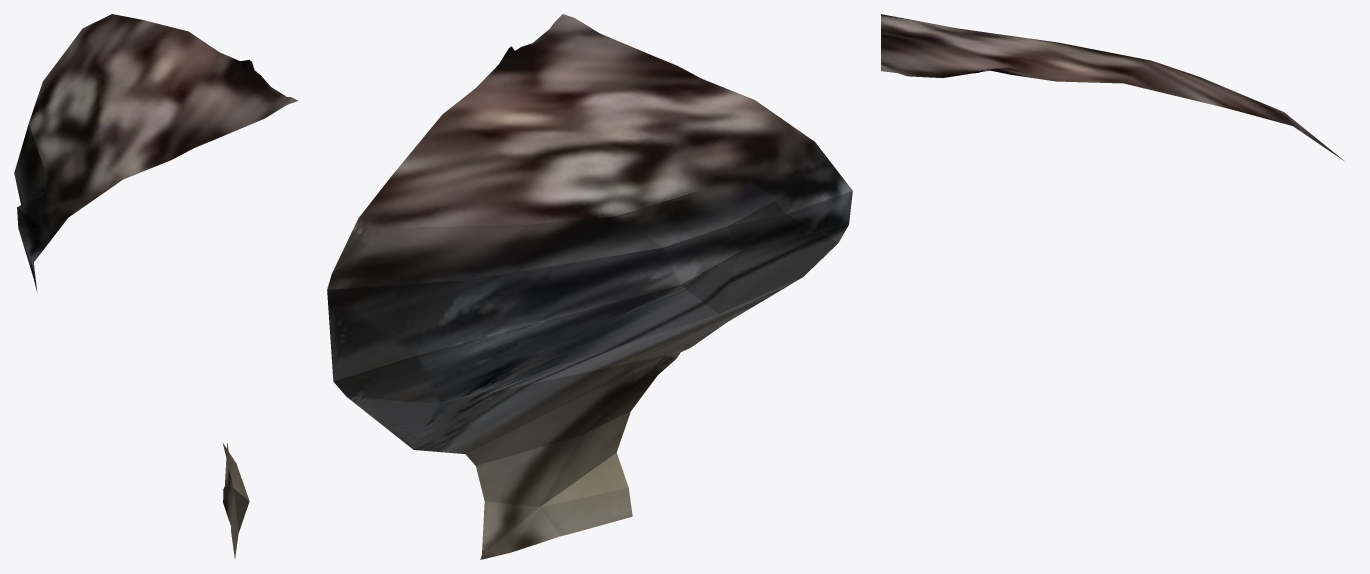
3 renders of one model, left to right at view 1: azimuth 30°, elevation 25°; view 2: azimuth 150°, elevation 25°; view 3: azimuth 270°, elevation 25°, orthographic. The views are drawn at different scales.
Bounding box in the file's own units: 0.6675 × 1.08 × 0.94.
1 material, 1 textured.
